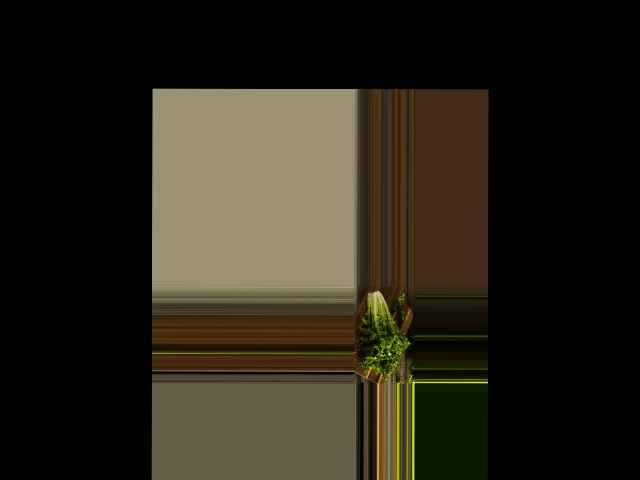lettuce: (356, 286, 408, 375)
